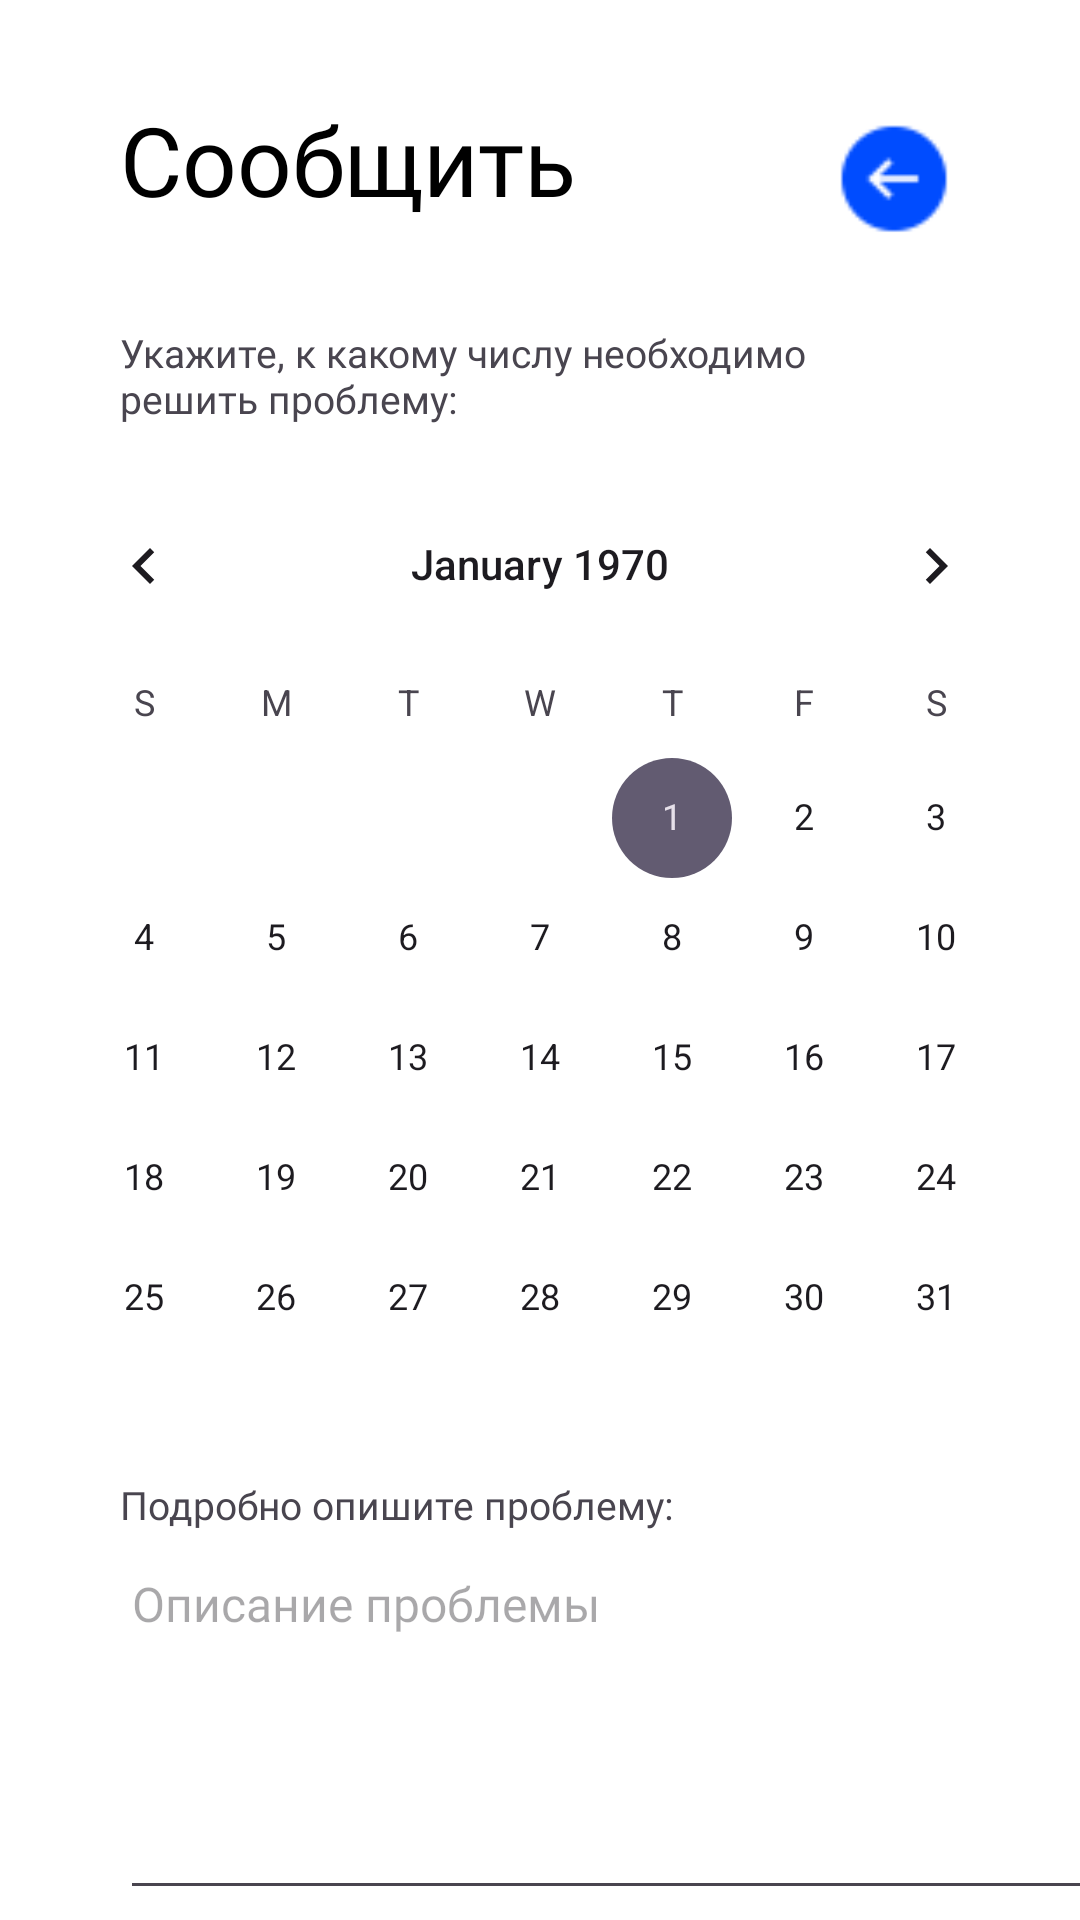

Where icons sit on this 1080px×1920px app screen, as (x1,y1,x2,y2):
back: (840,125,948,232)
